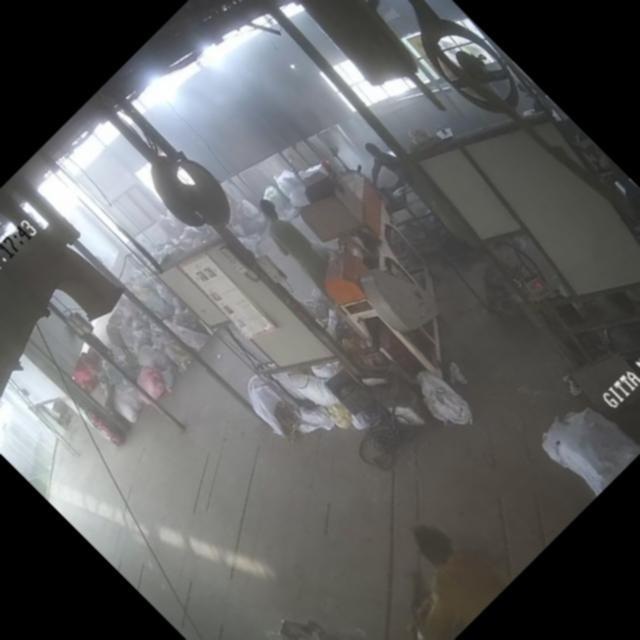person: (361, 133, 478, 250), (246, 195, 353, 302)
